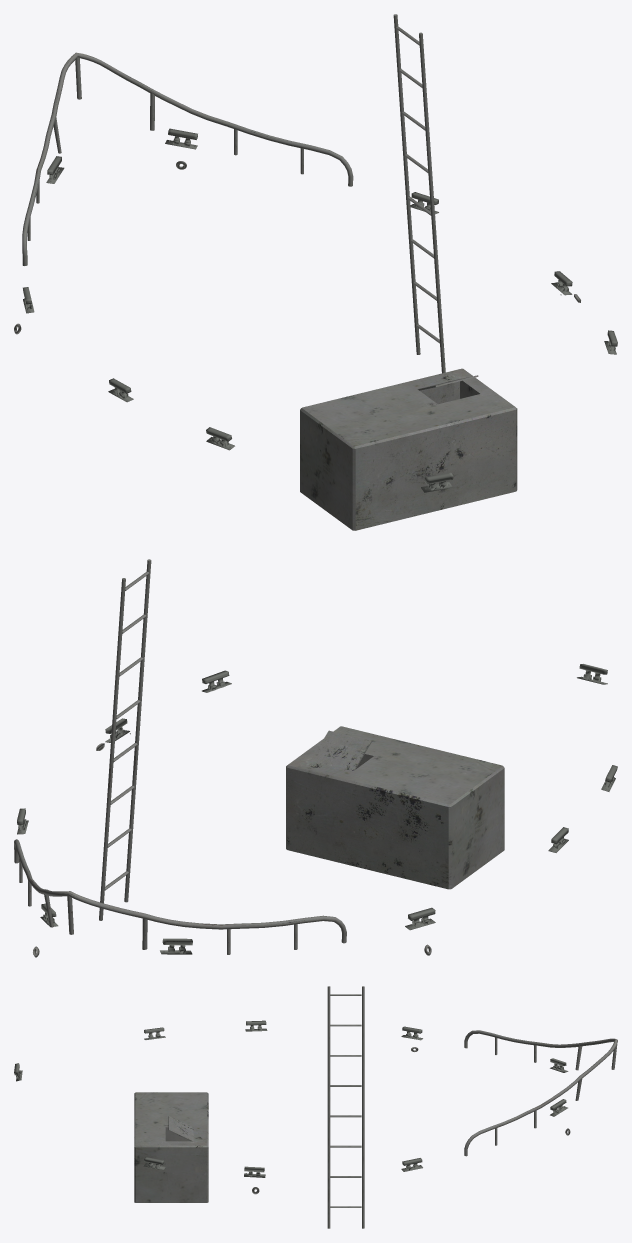
File: motor.obj
The picture shows the model from 3 angles, top to bottom: view 1: azimuth 30°, elevation 25°; view 2: azimuth 150°, elevation 25°; view 3: azimuth 270°, elevation 25°; orthographic projection. The views are drawn at different scales.
Visible parts, largest first — view 1: Material-scaletta; view 2: Material-scaletta; view 3: Material-scaletta.
Boxes of the visible parts, x1=… form: Material-scaletta: x1=14, y1=14, x2=617, y2=530; Material-scaletta: x1=14, y1=559, x2=617, y2=957; Material-scaletta: x1=14, y1=986, x2=617, y2=1228.
Bounding box in the file's own units: 4.03 × 2.87 × 6.7.
1 material, 1 textured.
